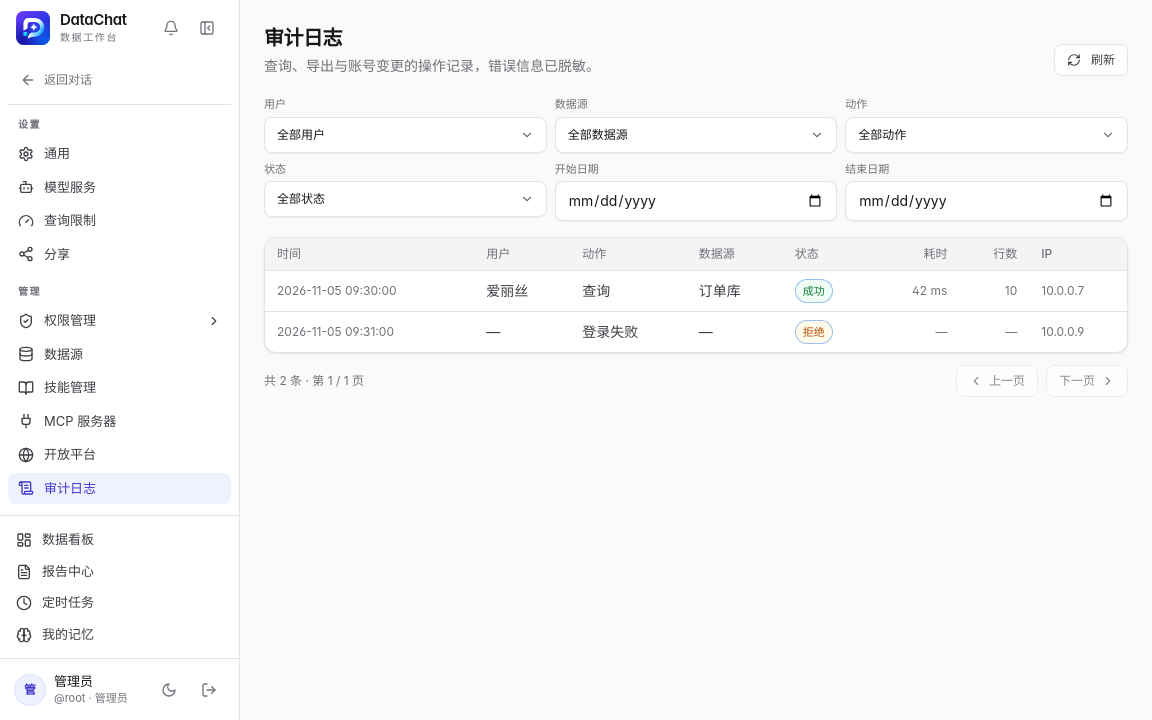
Scenario: AuditPage › opens the detail drawer with SQL, error and detail JSON
Click the row named "查看审计记录 audit-1". click: (696, 291)
box: [265,270,1127,312]
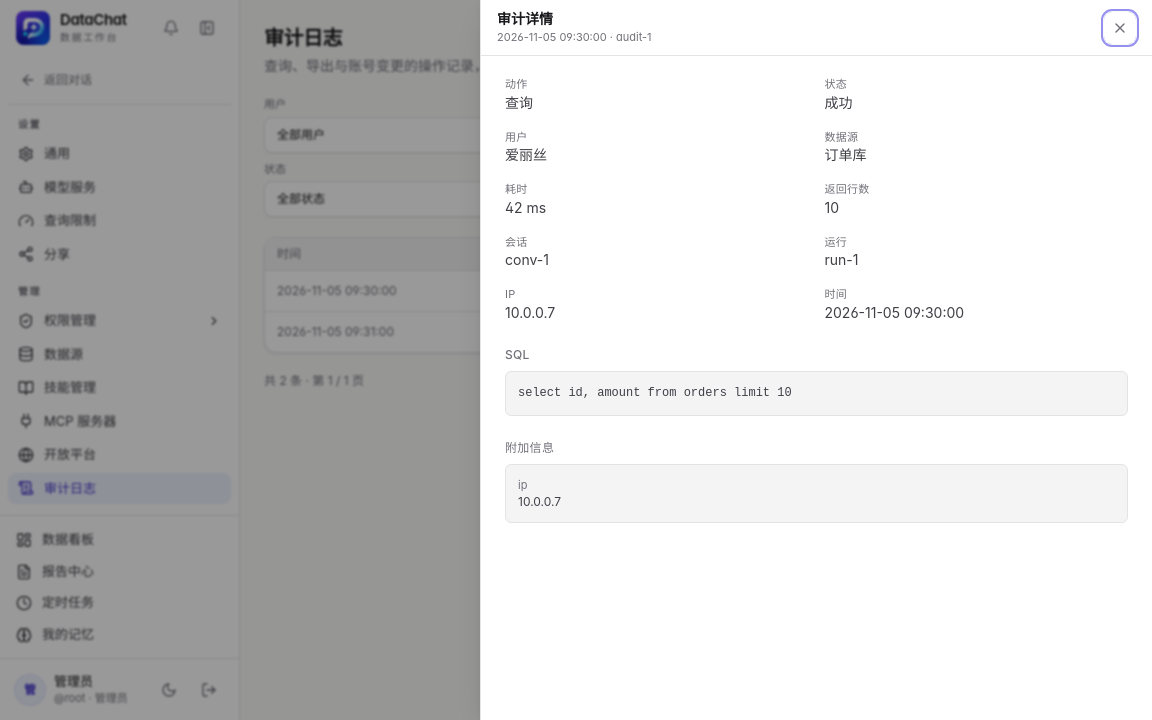
Result: the dialog "审计详情" shows "select id, amount from orders limit 10" at [518,386,792,400]
Result: the dialog "审计详情" shows "42 ms" at [505,198,546,216]
Result: the dialog "审计详情" shows "10.0.0.7" at [505,304,555,320]
Click the button named "关闭". click: (1120, 28)
box: [1104,12,1136,44]
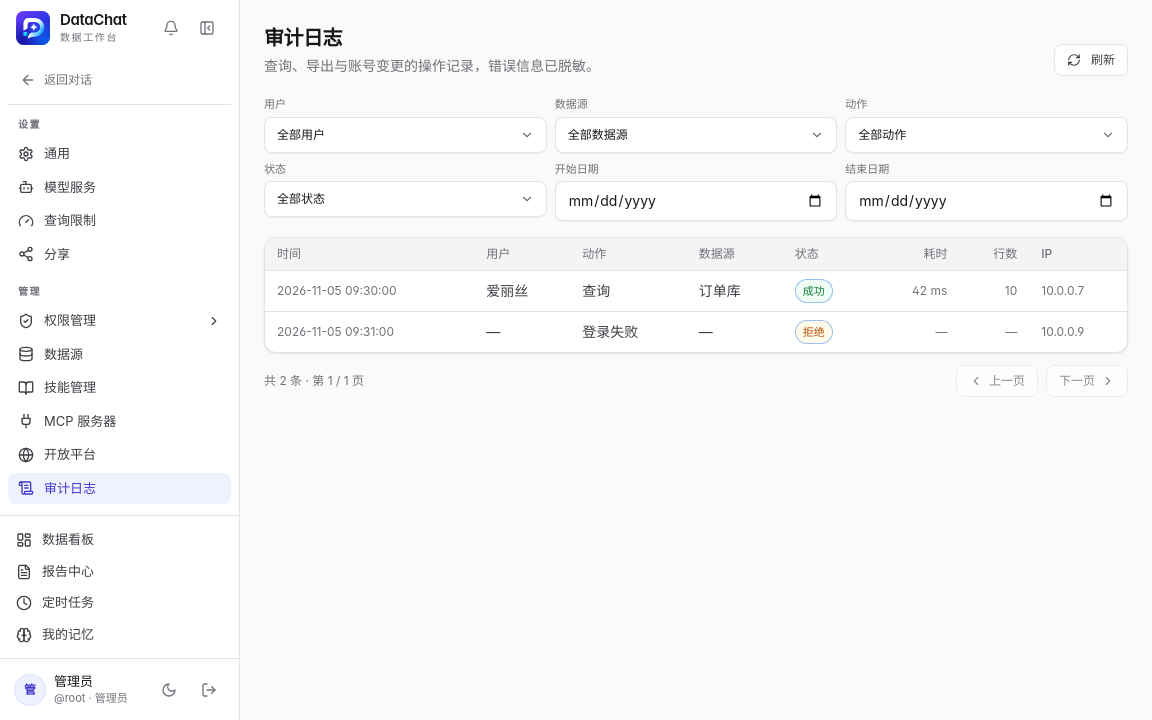
Result: the heading "审计详情" is gone
Click the row named "查看审计记录 audit-2". click: (696, 332)
box: [265,312,1127,352]
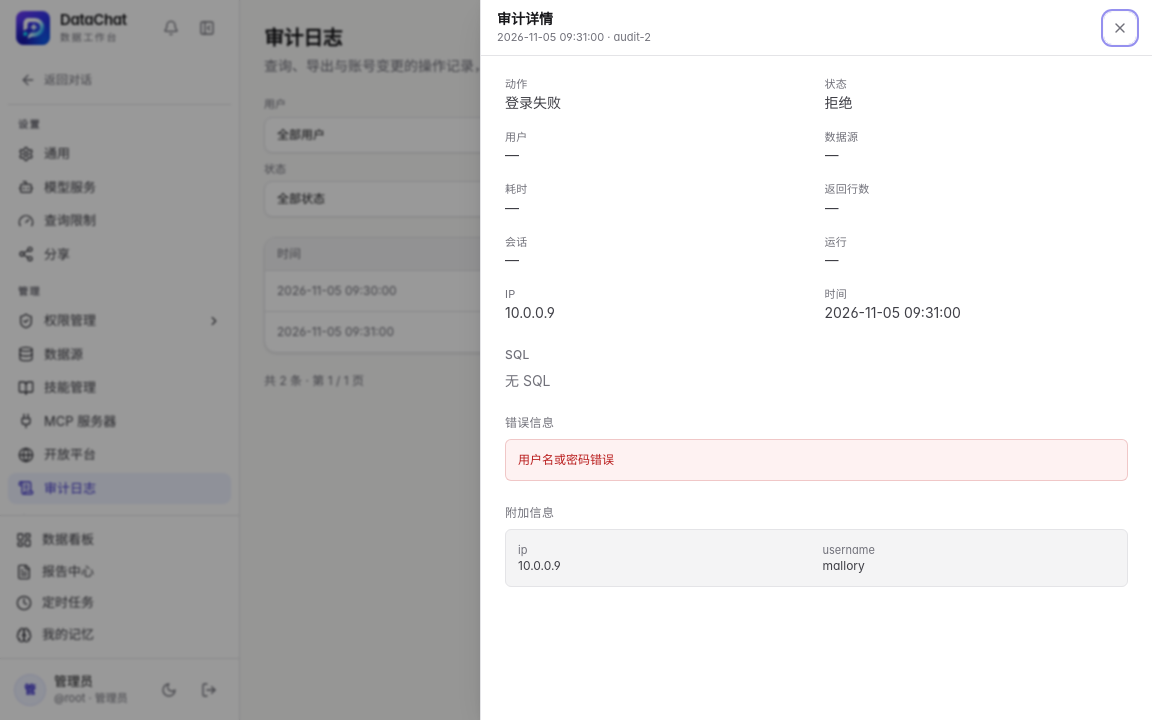
Result: the dialog "审计详情" shows "用户名或密码错误" at [518,452,614,466]
Result: the dialog "审计详情" shows "mallory" at [822,558,865,573]
Result: the dialog "审计详情" shows "无 SQL" at [505,372,550,388]
